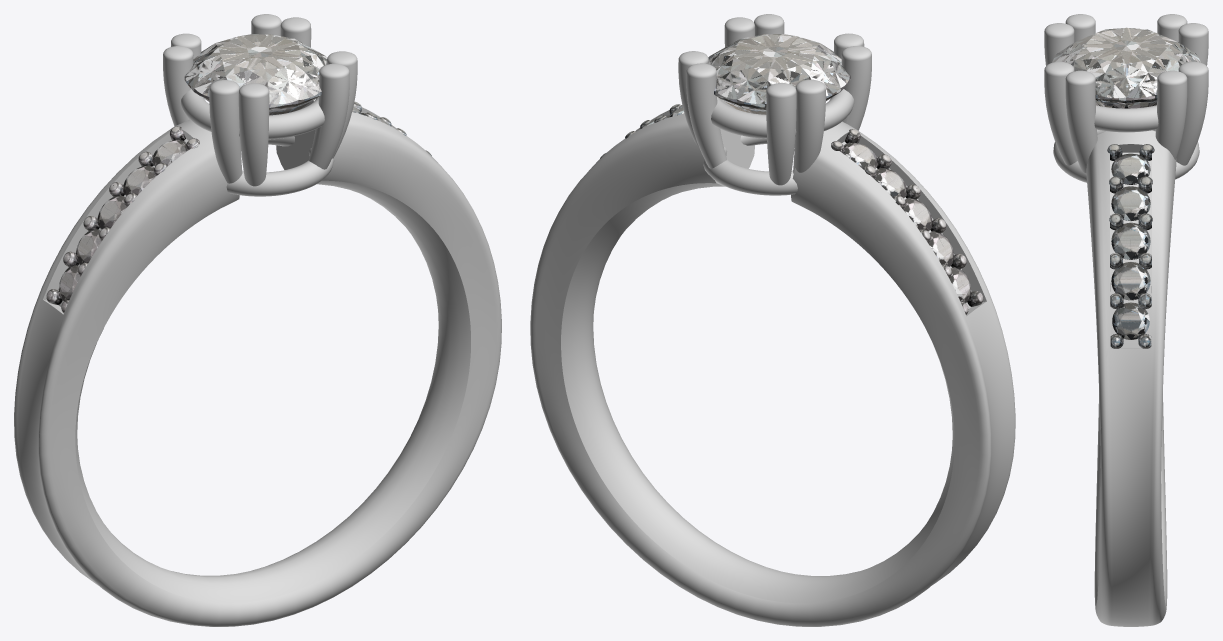
3 views of the same model, side by side, from view 1: azimuth 30°, elevation 25°; view 2: azimuth 150°, elevation 25°; view 3: azimuth 270°, elevation 25° (orthographic).
Visible parts, largest first — view 1: perfectDiamondRing; view 2: perfectDiamondRing; view 3: perfectDiamondRing.
Boxes of the visible parts, <box> form: perfectDiamondRing: <box>14,14,501,626</box>; perfectDiamondRing: <box>530,14,1015,626</box>; perfectDiamondRing: <box>1044,14,1208,626</box>.
Bounding box in the file's own units: 17.52 × 20.42 × 5.47.
2 materials, 1 textured.
